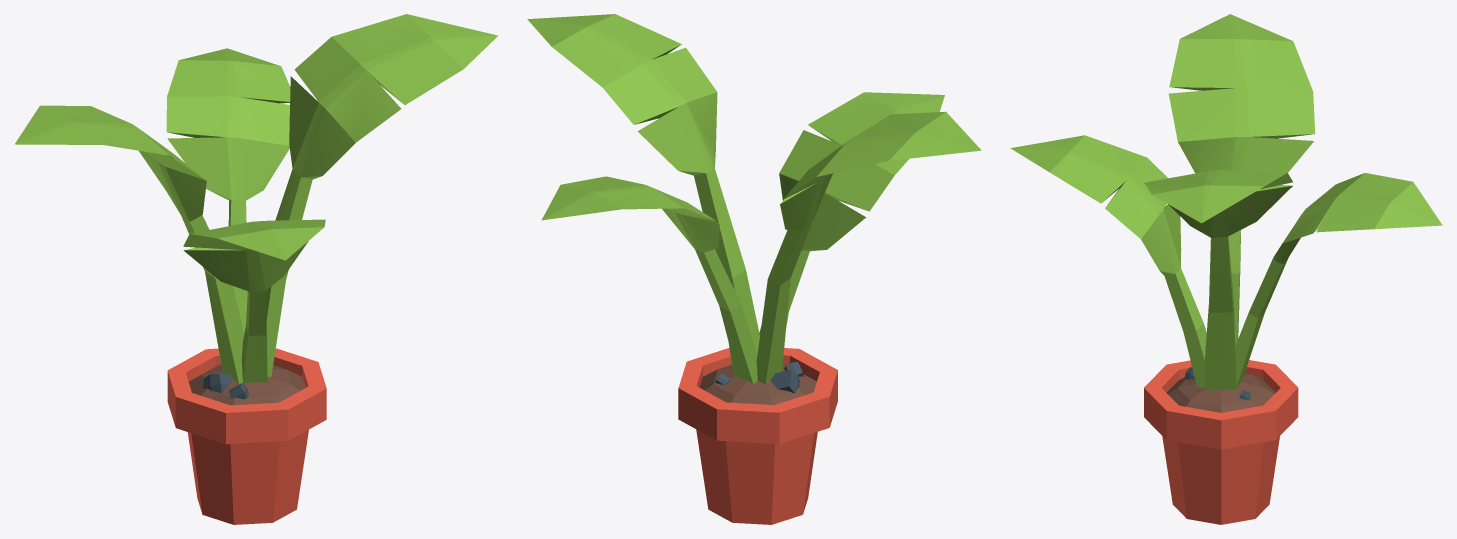
File: flowerpot.glb
3 renders of one model, left to right at view 1: azimuth 30°, elevation 25°; view 2: azimuth 150°, elevation 25°; view 3: azimuth 270°, elevation 25°, orthographic. The views are drawn at different scales.
Parts seen in each view (by area): view 1: plant_01_Cube.006; view 2: plant_01_Cube.006; view 3: plant_01_Cube.006.
Boxes of the visible parts, x1=… form: plant_01_Cube.006: x1=15, y1=14, x2=497, y2=524; plant_01_Cube.006: x1=527, y1=14, x2=981, y2=524; plant_01_Cube.006: x1=1010, y1=14, x2=1442, y2=524.
Bounding box in the file's own units: 3.27 × 2.86 × 2.79.
